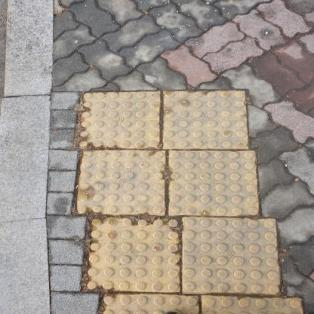Podoctatil: (71, 86, 313, 314)
